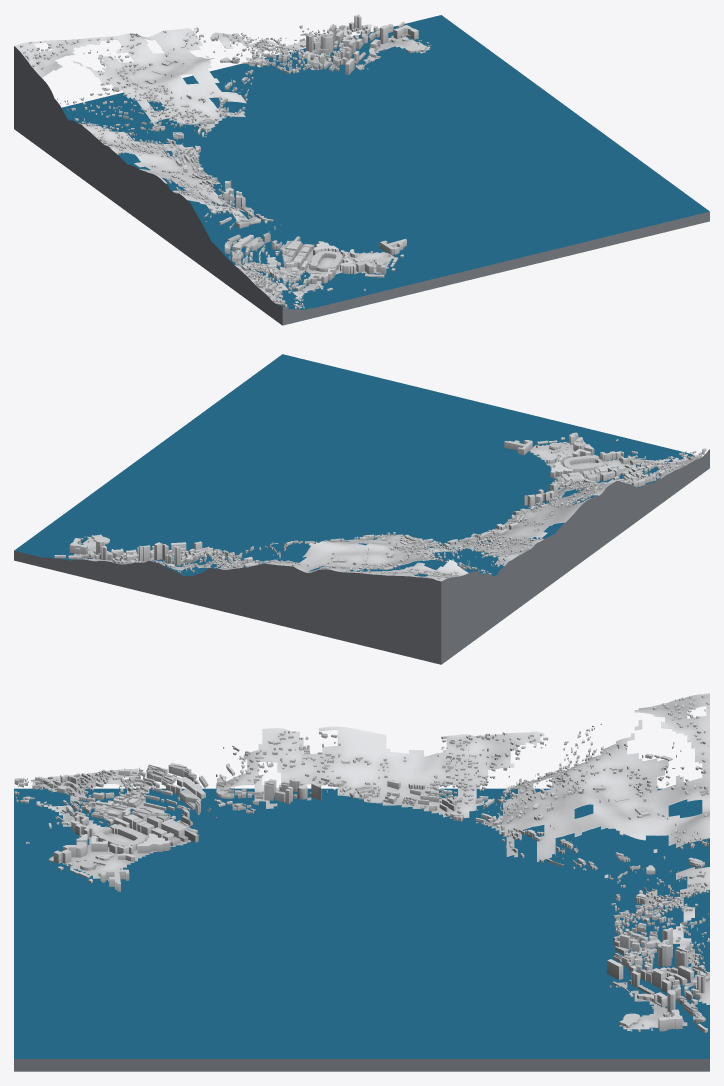
The model's file is far.glb.
3 renders of one model, top to bottom at view 1: azimuth 30°, elevation 25°; view 2: azimuth 150°, elevation 25°; view 3: azimuth 270°, elevation 25°, orthographic. The views are drawn at different scales.
Parts seen in each view (by area): view 1: water, plinth, building, terrain; view 2: water, plinth, building, terrain; view 3: water, terrain, building, plinth.
Boxes of the visible parts, box(x1,y1,x2,y2) form: water: box(61, 15, 709, 309); plinth: box(14, 46, 709, 325); building: box(20, 14, 431, 309); terrain: box(14, 24, 430, 307); water: box(14, 354, 697, 576); plinth: box(14, 449, 709, 664); building: box(54, 432, 706, 579); terrain: box(73, 442, 702, 581); water: box(14, 788, 709, 1058); terrain: box(21, 693, 709, 1030); building: box(14, 695, 709, 1032); plinth: box(14, 1059, 709, 1071).
Bounding box in the file's own units: 2720 × 511 × 2960.
